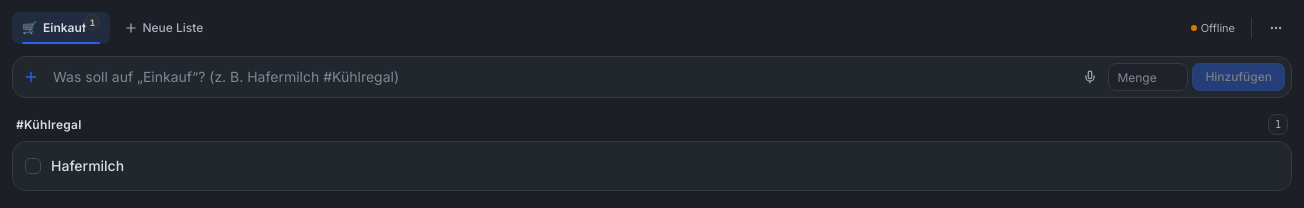
Test: SharedListsView: suggestions while typing a new item › shows earlier items after two letters, without the ones open on the list
Type "M" into the field with placeholder "Was soll auf „Einkauf“? (z. B. Hafermilch #Kühlregal)".
click(558, 77); type("M")  # box [45,63,1070,91]
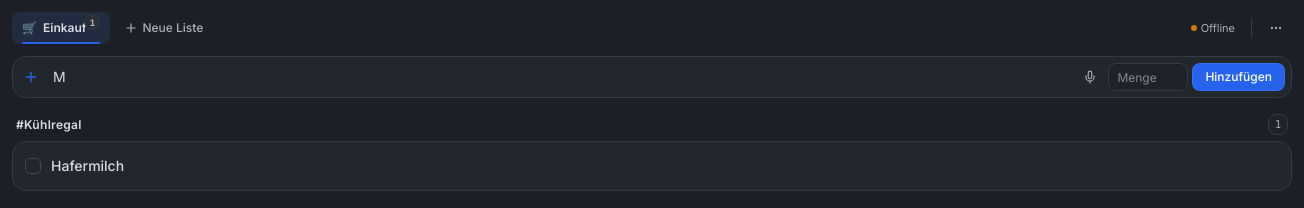
Expected: the list "Vorschläge" is not shown
Replace the text in the field with placeholder "Was soll auf „Einkauf“? (z. B. Hafermilch #Kühlregal)" with "Mi" at (558, 77), box [45,63,1070,91]
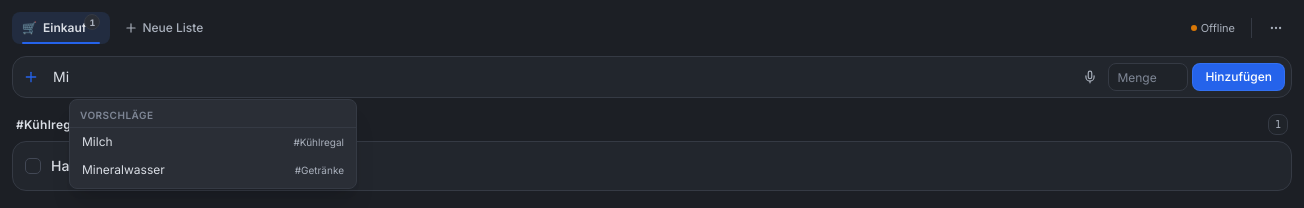
Expected: the options read "Milch#Kühlregal", "Mineralwasser#Getränke", in this order, [70,128,356,156]; [70,156,356,184]
